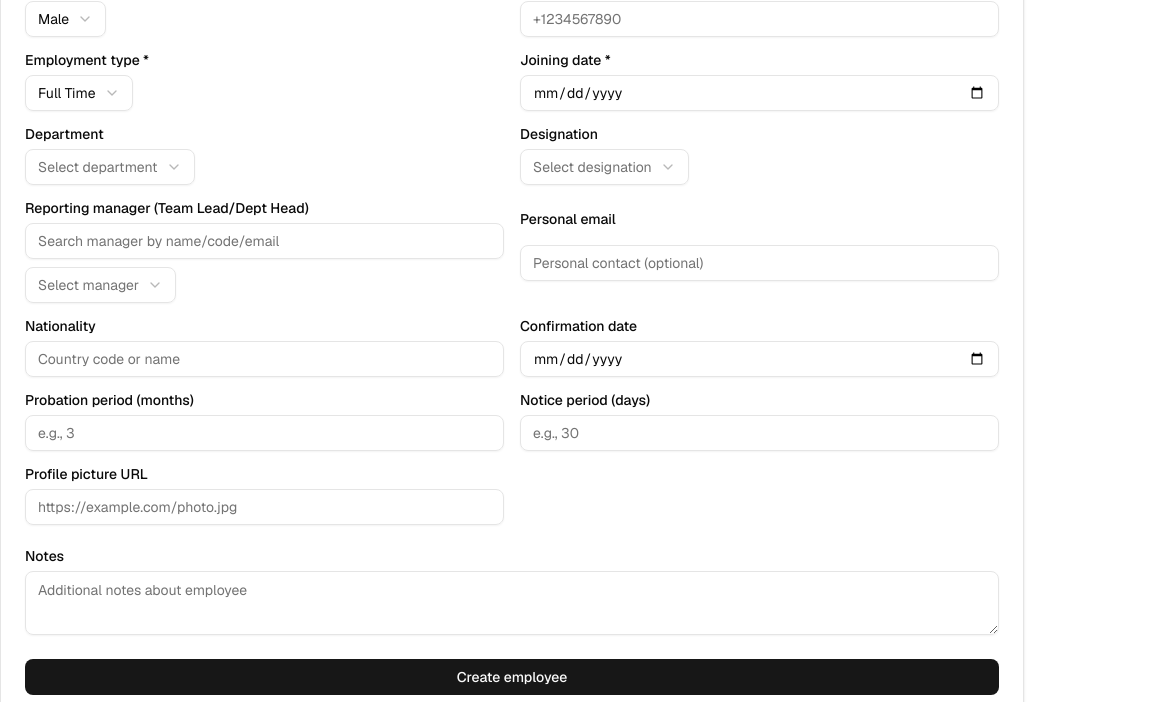
Test: CreateEmployeePage › shows validation errors when form is submitted empty
(page scrolled)
Step 1. Click the button "Create employee" → coordinates (512, 677), box [25, 659, 999, 695]
(page scrolled)
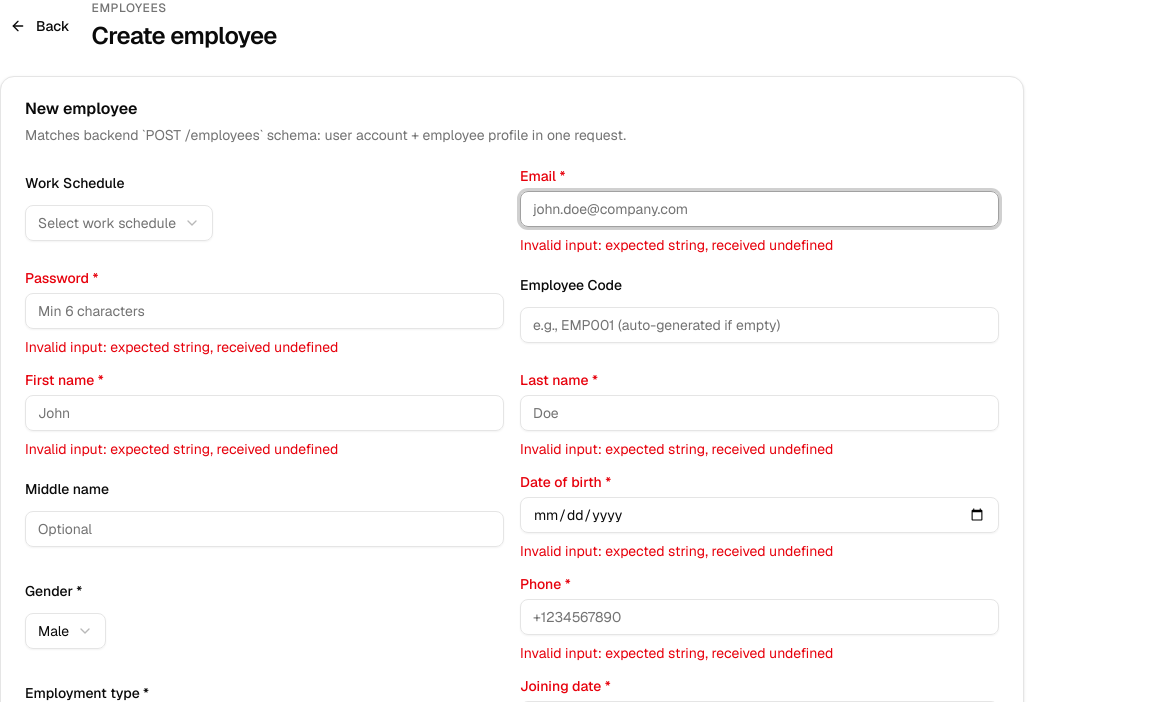
Result: the text "Invalid input: expected string, received undefined" below "Email *" is shown at [520, 236, 833, 254]
